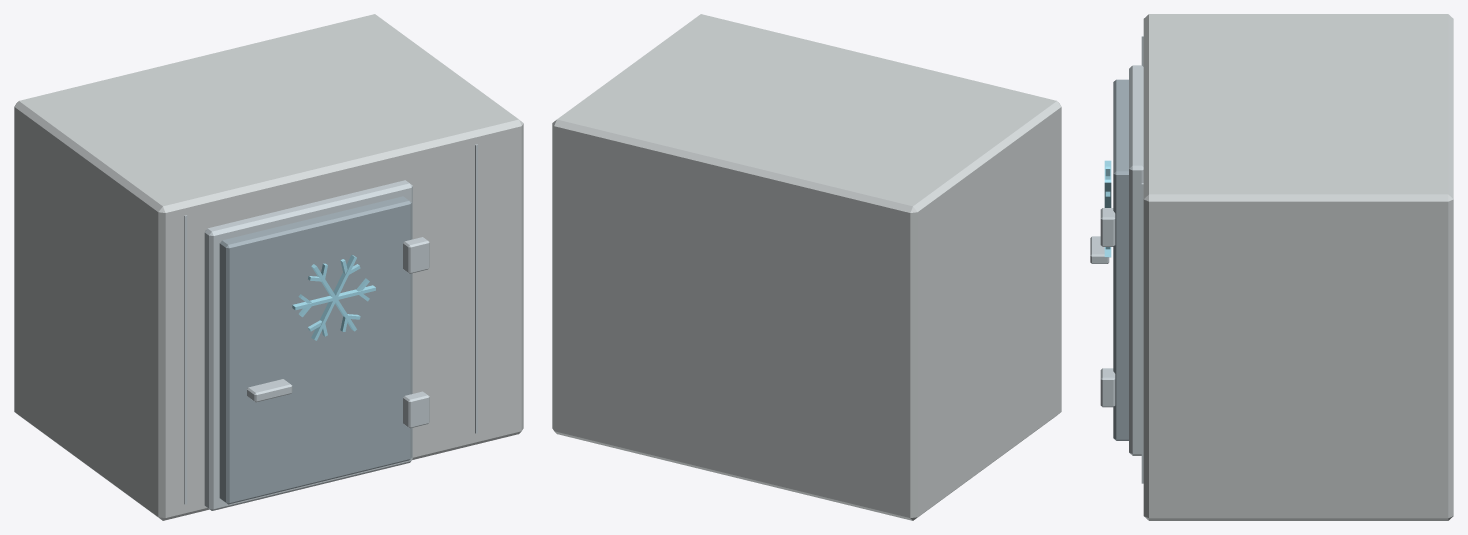
The model's file is cooler.glb.
3 renders of one model, left to right at view 1: azimuth 30°, elevation 25°; view 2: azimuth 150°, elevation 25°; view 3: azimuth 270°, elevation 25°, orthographic. The views are drawn at different scales.
Visible parts, largest first — view 1: cooler; view 2: cooler; view 3: cooler.
Part boxes in pixels (<box>): cooler: <box>14,14,523,520</box>; cooler: <box>552,14,1061,520</box>; cooler: <box>1090,14,1453,520</box>.
Bounding box in the file's own units: 0.48 × 0.395 × 0.3985.
